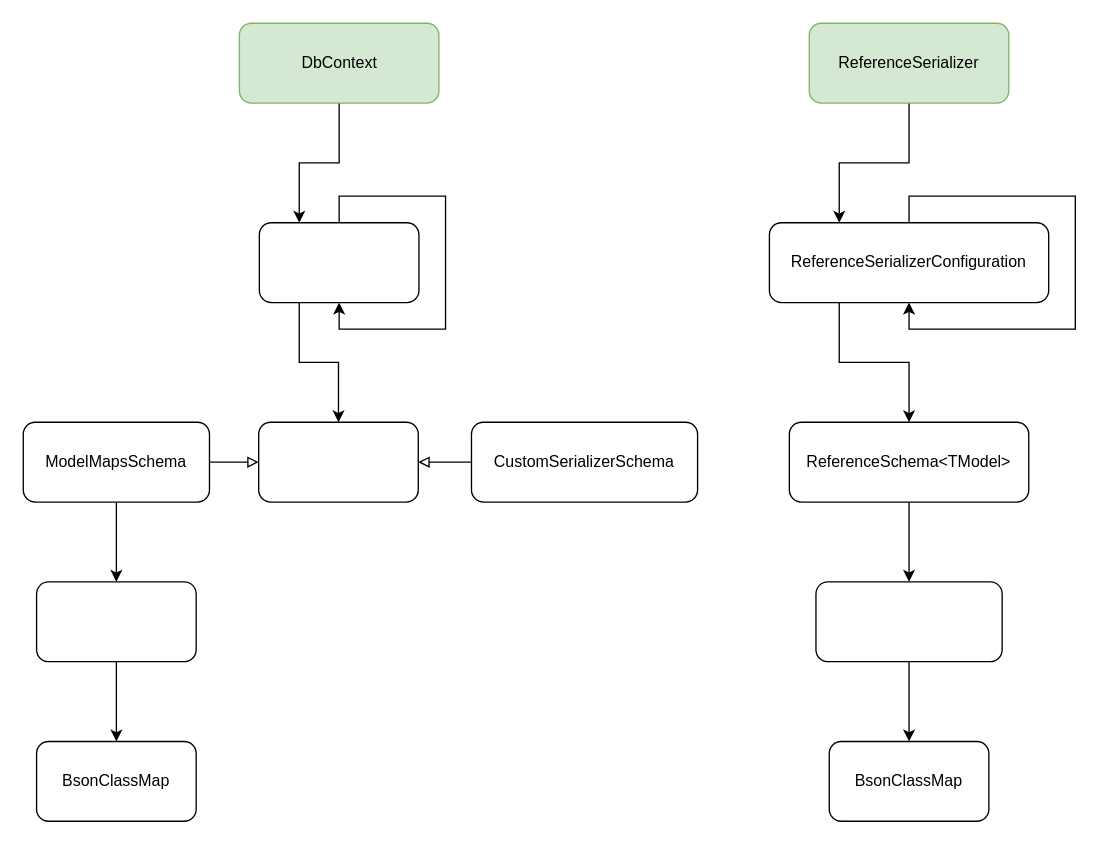
Image size: 1109x845. Some labels were removed from this diagram. The box of each missing label's shape, as (x1, y1, x2, y2) in pixels:
ModelMap: (35, 581, 196, 662)
ReferenceModelMap: (815, 581, 1002, 662)
SchemaBase: (257, 421, 418, 502)
SchemaRegister: (258, 221, 419, 303)
